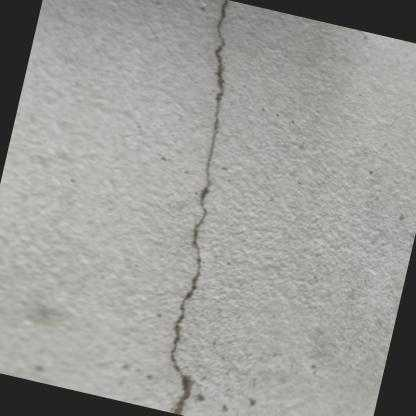crack: (168, 0, 230, 415)
